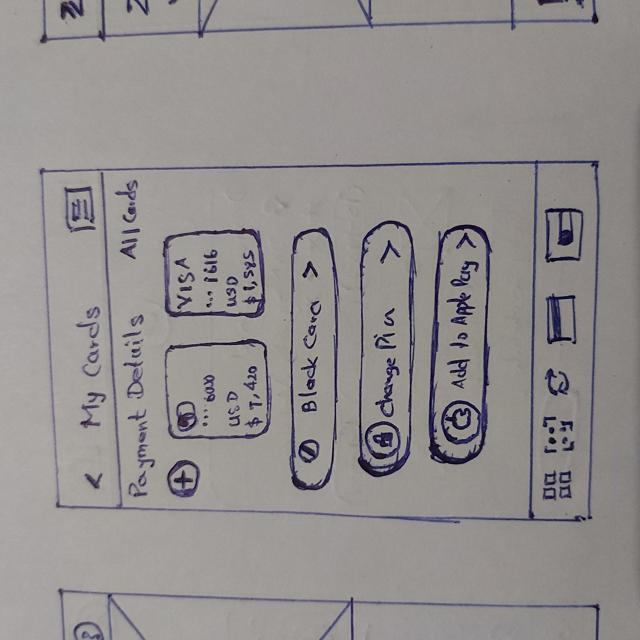AppBar: (36, 166, 124, 513)
BackButton: (81, 466, 109, 496)
BottomNavBar: (528, 156, 594, 521)
BottomNavItems: (528, 189, 598, 283), (526, 289, 599, 359), (526, 362, 597, 411), (527, 415, 596, 464), (526, 466, 593, 513)
Button: (427, 223, 493, 469), (357, 218, 416, 480), (287, 224, 340, 494)
CardView: (162, 334, 276, 442), (159, 225, 269, 322)
DrawerToggleButton: (63, 184, 98, 230)
Icon: (546, 204, 584, 270), (541, 292, 582, 349), (541, 410, 582, 457), (440, 400, 482, 445), (366, 422, 404, 460), (539, 364, 574, 403), (540, 469, 579, 504), (174, 401, 198, 434), (377, 240, 401, 266), (299, 436, 322, 463), (300, 260, 321, 285), (456, 231, 471, 254)
IconButton: (165, 460, 205, 498)
MainLayout: (31, 155, 606, 527)
TextView: (118, 311, 155, 501), (68, 304, 106, 438), (118, 180, 143, 262), (245, 364, 262, 431), (172, 257, 193, 311), (199, 250, 216, 307), (240, 249, 256, 309), (203, 375, 220, 431), (225, 278, 237, 307), (228, 391, 237, 427)
